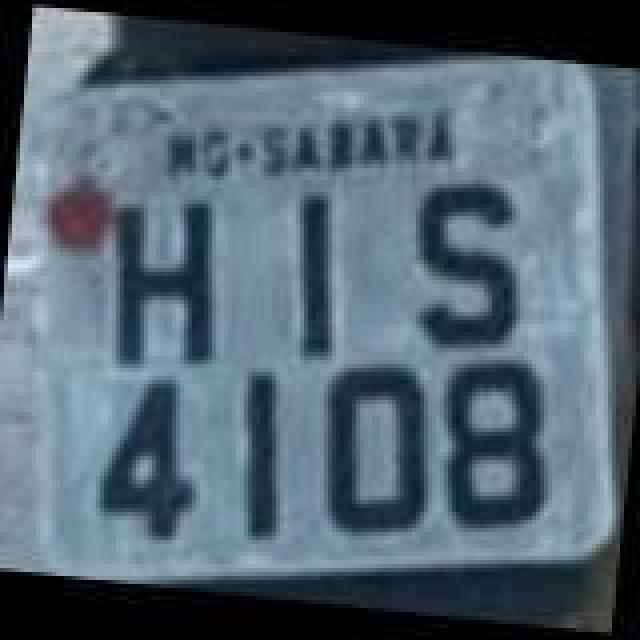1: (276, 192, 356, 368), (222, 368, 298, 544)
4: (88, 370, 208, 542)
8: (432, 348, 560, 532)
H: (102, 188, 234, 372)
O: (308, 356, 444, 540)
S: (396, 174, 532, 354)
